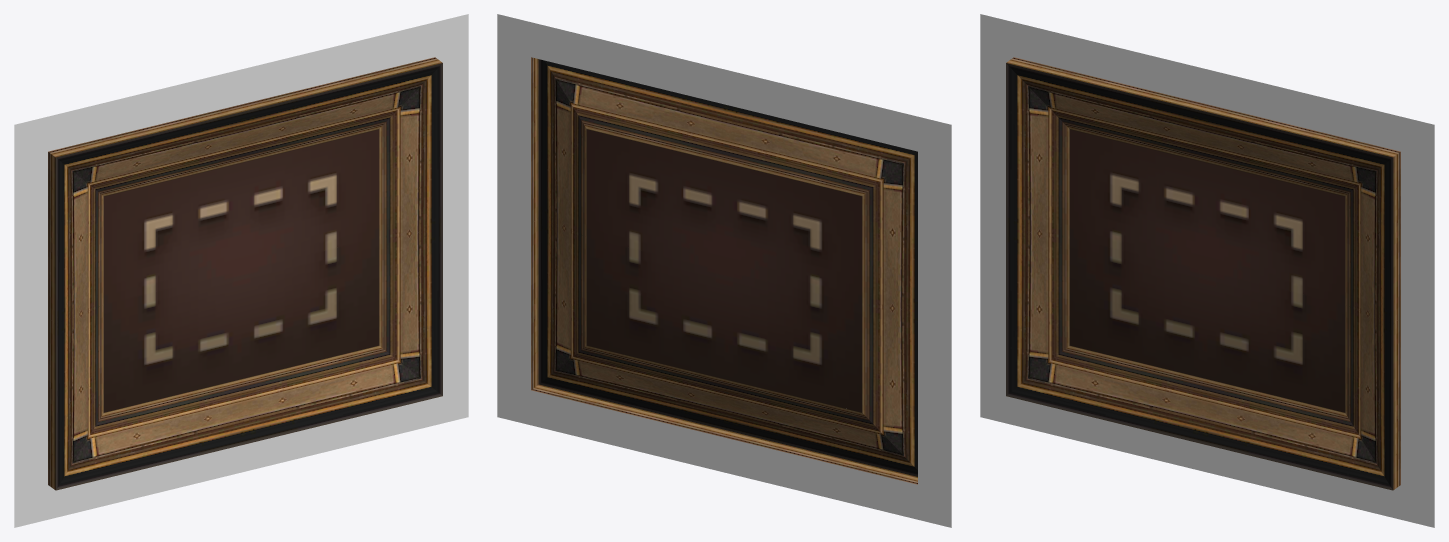
Rendered from Frame_09_Small.dae.
3 views of the same model, side by side, from view 1: azimuth 30°, elevation 25°; view 2: azimuth 150°, elevation 25°; view 3: azimuth 330°, elevation 25° (orthographic).
Parts seen in each view (by area): view 1: Frame_09_Small (×3); view 2: Frame_09_Small (×3); view 3: Frame_09_Small (×3).
Boxes of the visible parts, bbox=[...] form: Frame_09_Small (×3): bbox=[14, 14, 468, 527]; Frame_09_Small (×3): bbox=[497, 14, 951, 527]; Frame_09_Small (×3): bbox=[980, 14, 1434, 527].
Bounding box in the file's own units: 272 × 231 × 8.27.
Materials: 3 (3 with a texture image).
